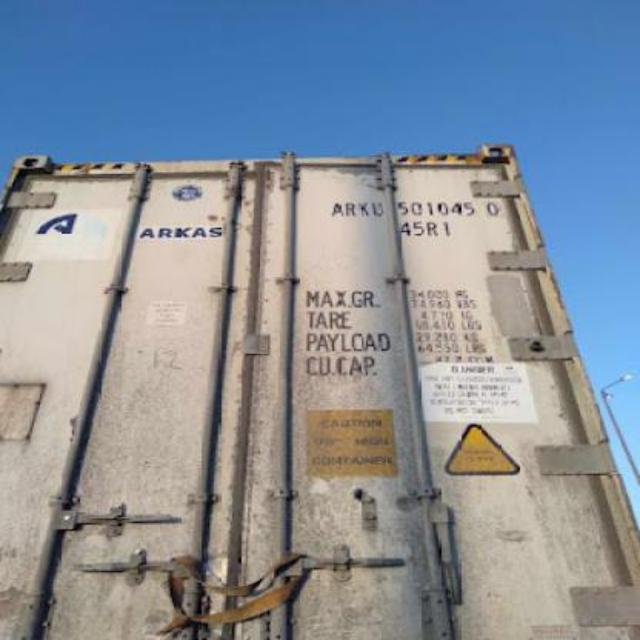0: (486, 201, 502, 217), (411, 199, 424, 217), (436, 200, 449, 218)
1: (426, 202, 434, 216)
4: (451, 203, 464, 217)
5: (462, 200, 476, 218), (396, 200, 409, 216)
A: (331, 201, 343, 219)
K: (358, 201, 370, 219)
R: (346, 200, 356, 218)
U: (372, 201, 383, 219)
